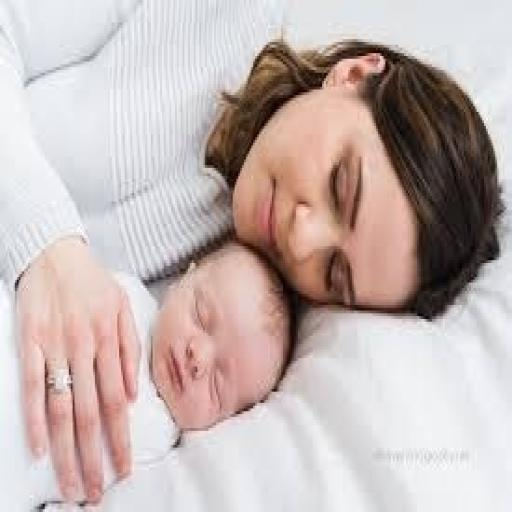sleeping: (0, 0, 504, 506)
